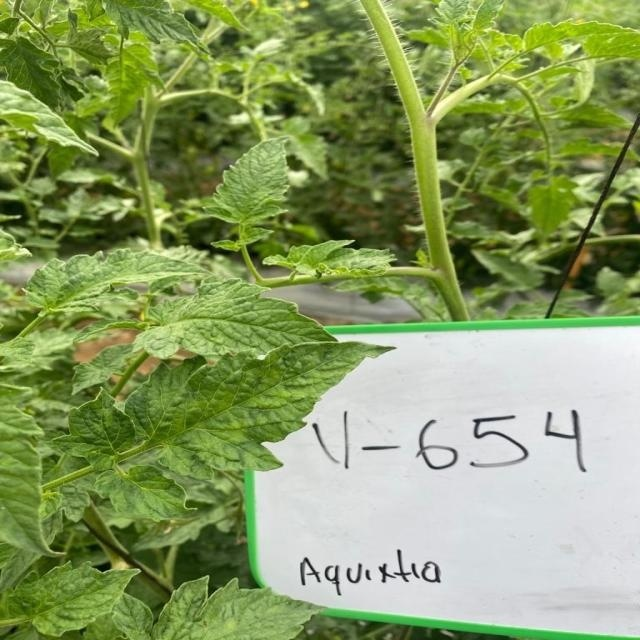T_L_H: (54, 391, 136, 471)
T_L_R: (126, 344, 384, 479), (21, 250, 204, 337), (135, 280, 335, 359), (114, 576, 323, 640), (3, 562, 141, 637), (1, 385, 58, 556), (207, 139, 290, 226), (96, 466, 194, 522), (103, 1, 201, 50), (1, 37, 63, 110), (73, 345, 136, 394)
T_S_H: (362, 1, 471, 322)
